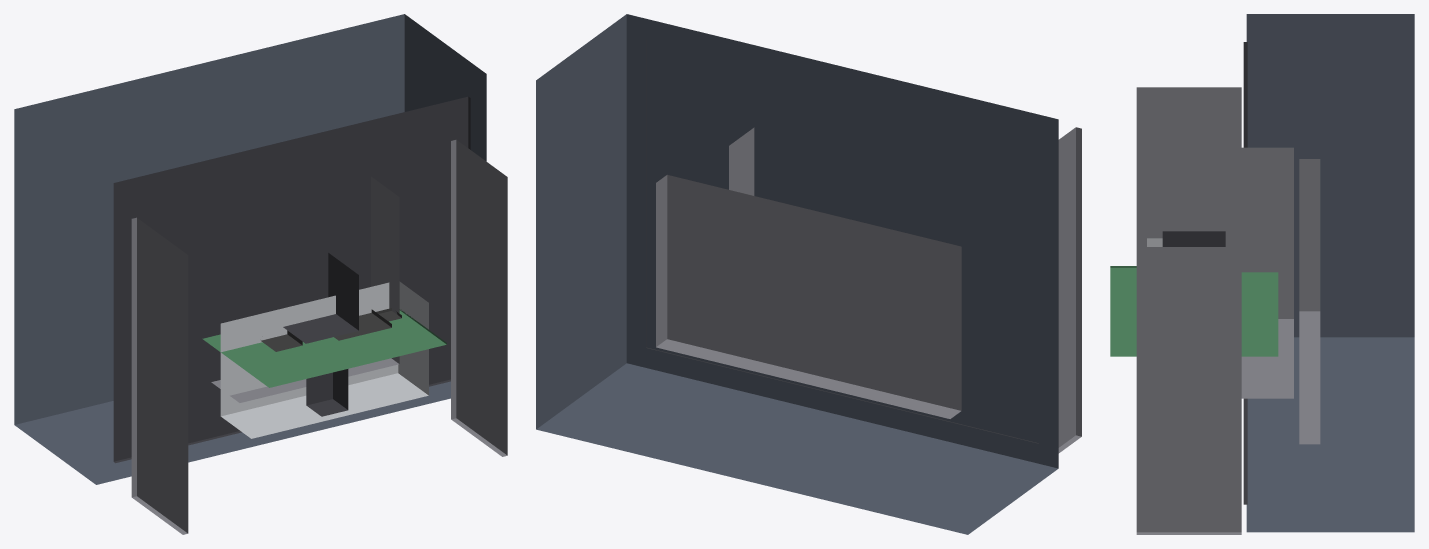
Rendered from crt_display.gltf.
3 views of the same model, side by side, from view 1: azimuth 30°, elevation 25°; view 2: azimuth 150°, elevation 25°; view 3: azimuth 270°, elevation 25° (orthographic). The views are drawn at different scales.
Parts seen in each view (by area): view 1: crt_display; view 2: crt_display; view 3: crt_display.
Boxes of the visible parts, box(x1,y1,x2,y2) form: crt_display: box(14, 14, 507, 534); crt_display: box(536, 14, 1081, 534); crt_display: box(1110, 14, 1414, 534).
Bounding box in the file's own units: 0.44 × 0.36 × 0.29.
